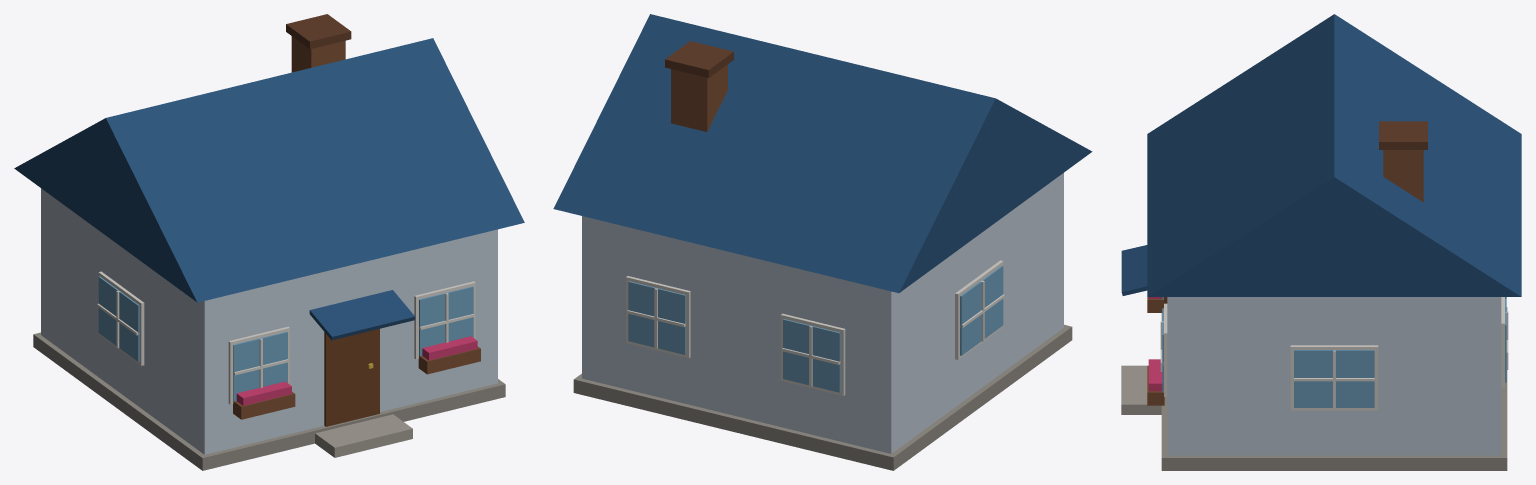
Rendered from house_blue.glb.
The picture shows the model from 3 angles, left to right: view 1: azimuth 30°, elevation 25°; view 2: azimuth 150°, elevation 25°; view 3: azimuth 270°, elevation 25°; orthographic projection. The views are drawn at different scales.
Parts seen in each view (by area): view 1: gh_house_blue; view 2: gh_house_blue; view 3: gh_house_blue.
Boxes of the visible parts, <box> form: gh_house_blue: <box>14,14,524,470</box>; gh_house_blue: <box>553,14,1092,470</box>; gh_house_blue: <box>1121,14,1521,470</box>.
Size of the model in its own units: 6.7 by 5.85 by 6.95.
